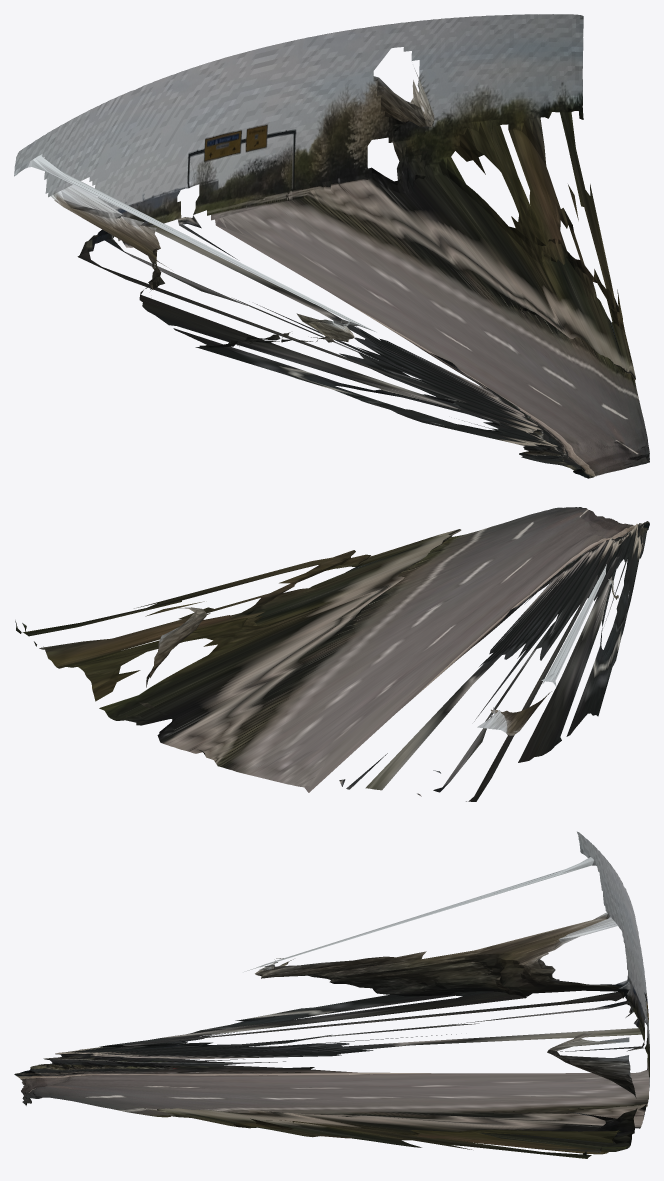
3 renders of one model, top to bottom at view 1: azimuth 30°, elevation 25°; view 2: azimuth 150°, elevation 25°; view 3: azimuth 270°, elevation 25°, orthographic. The views are drawn at different scales.
Parts seen in each view (by area): view 1: defaultobject; view 2: defaultobject; view 3: defaultobject.
Boxes of the visible parts, x1,y1,x2,y2 form: defaultobject: (14, 14, 649, 478); defaultobject: (15, 507, 649, 801); defaultobject: (14, 831, 649, 1158).
Size of the model in its own units: 40.91 by 11.7 by 44.91.
Materials: 1 (1 with a texture image).
